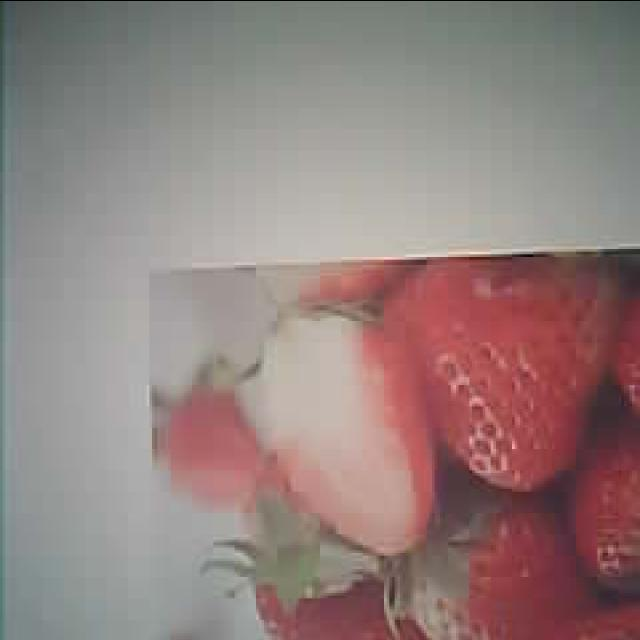strawberry: (410, 252, 614, 490)
